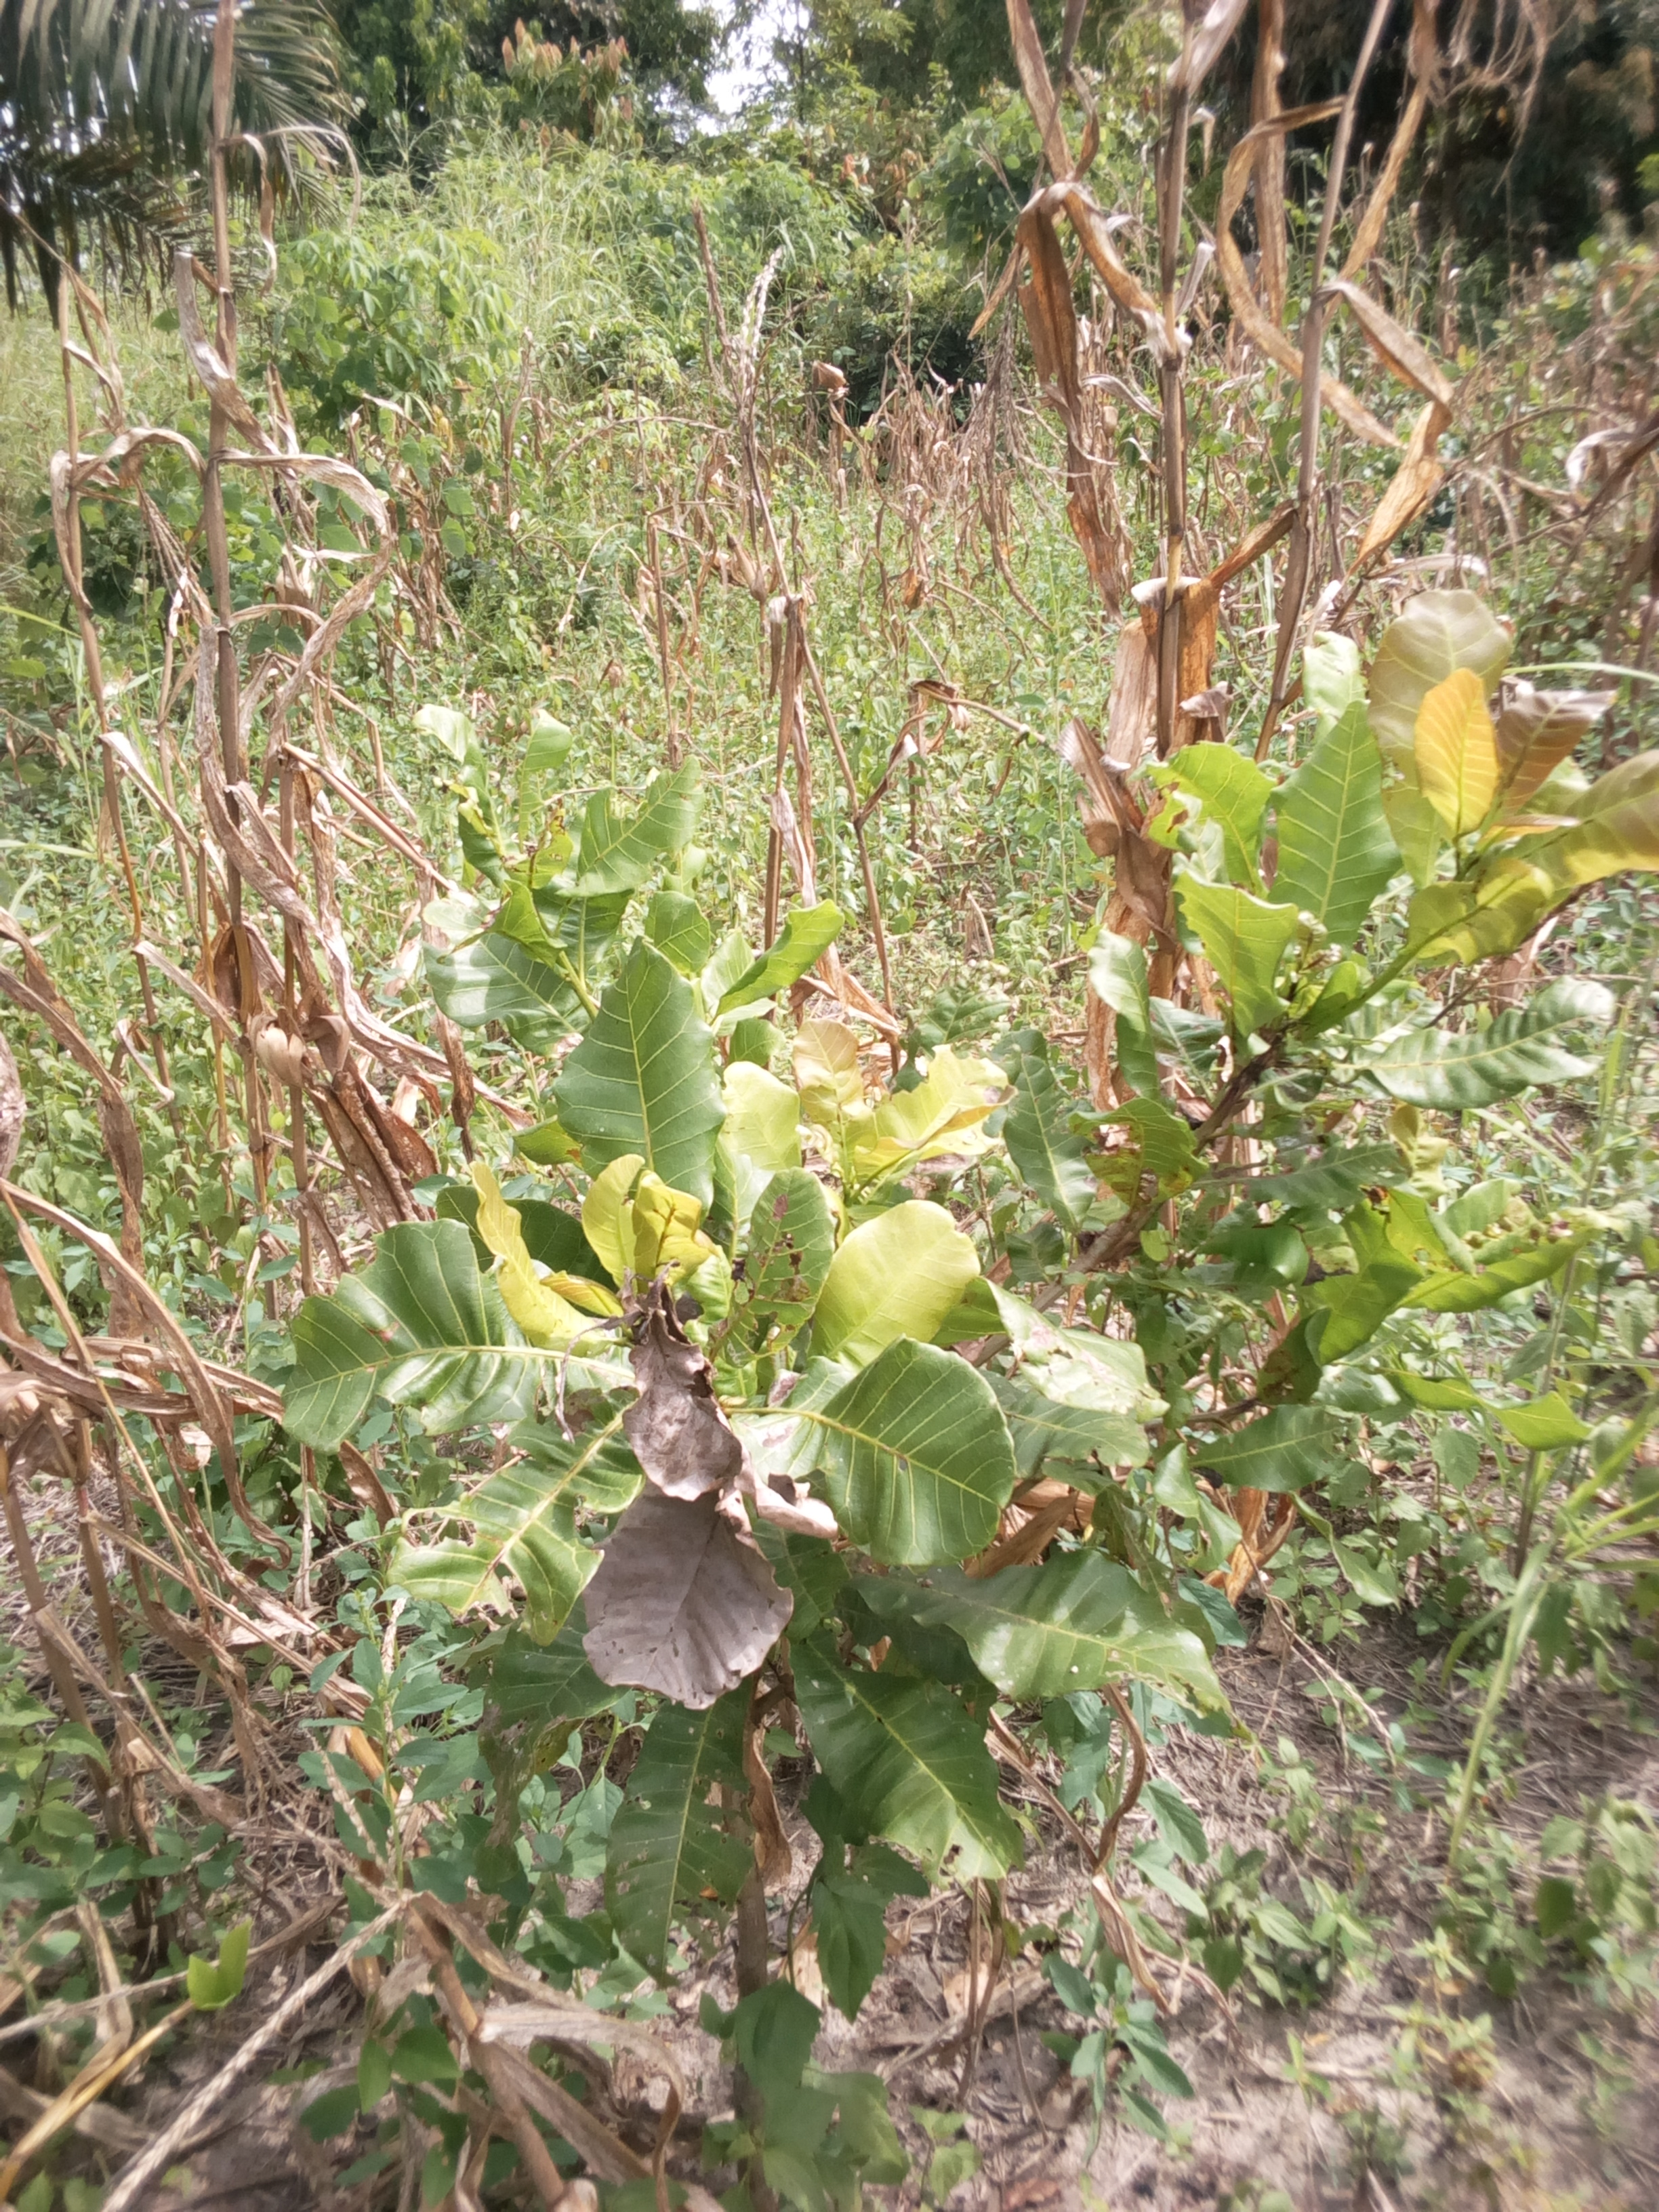Dessèchement des bourgeons: (626, 1271, 732, 1507)
